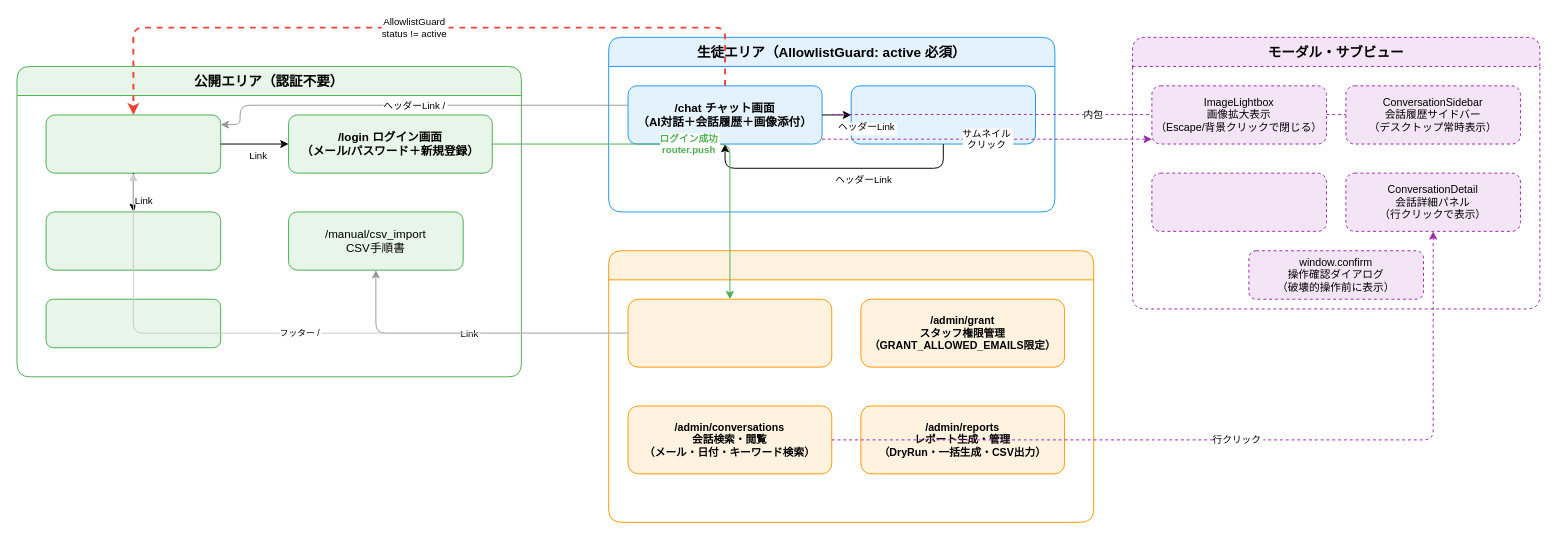
Image size: 1557x539. Some labels were removed from this diagram. The shapes that lost their labels are listed below. From the top down, each one's box as (x1, y1, x2, y2) in pixels, then its label:
(850, 85, 1035, 144): /reports 学習レポート （月次レポート閲覧）
(45, 114, 221, 173): / トップページ （ランディング）
(1151, 172, 1326, 231): ImagePreviewBar 添付画像プレビュー （送信前サムネイル表示）
(45, 211, 221, 270): /admin 管理トップ （プレースホルダー）
(45, 298, 221, 348): /chat-test チャットテスト
(627, 298, 832, 367): /admin/allowlist 許可リスト管理 （検索・ステータス変更・CSV一括登録）
(608, 250, 1094, 522): スタッフエリア（requireStaff 必須）
